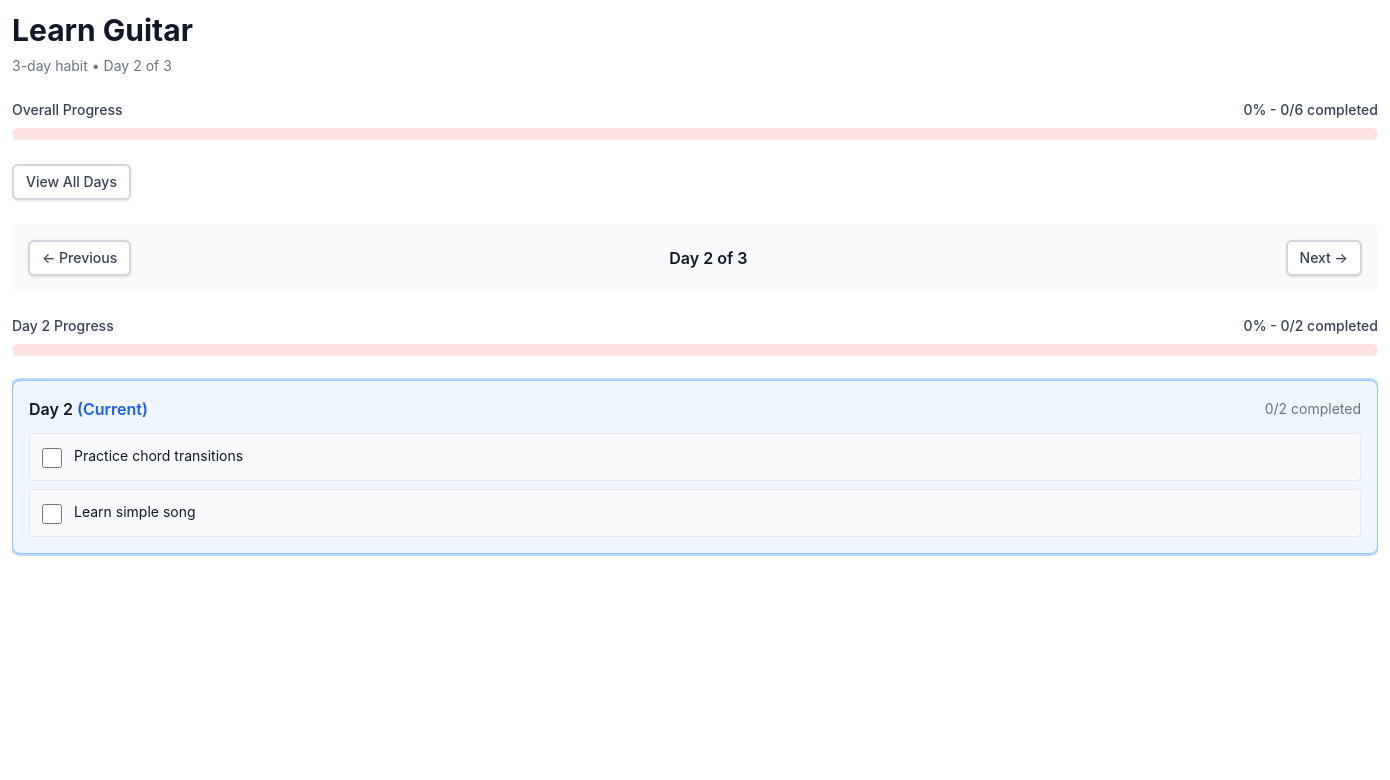
Test: MultiDayTaskDisplay › should navigate to previous day when prev button clicked
Click the button "← Previous". click: {"x": 80, "y": 258}
box: [28,240,131,276]
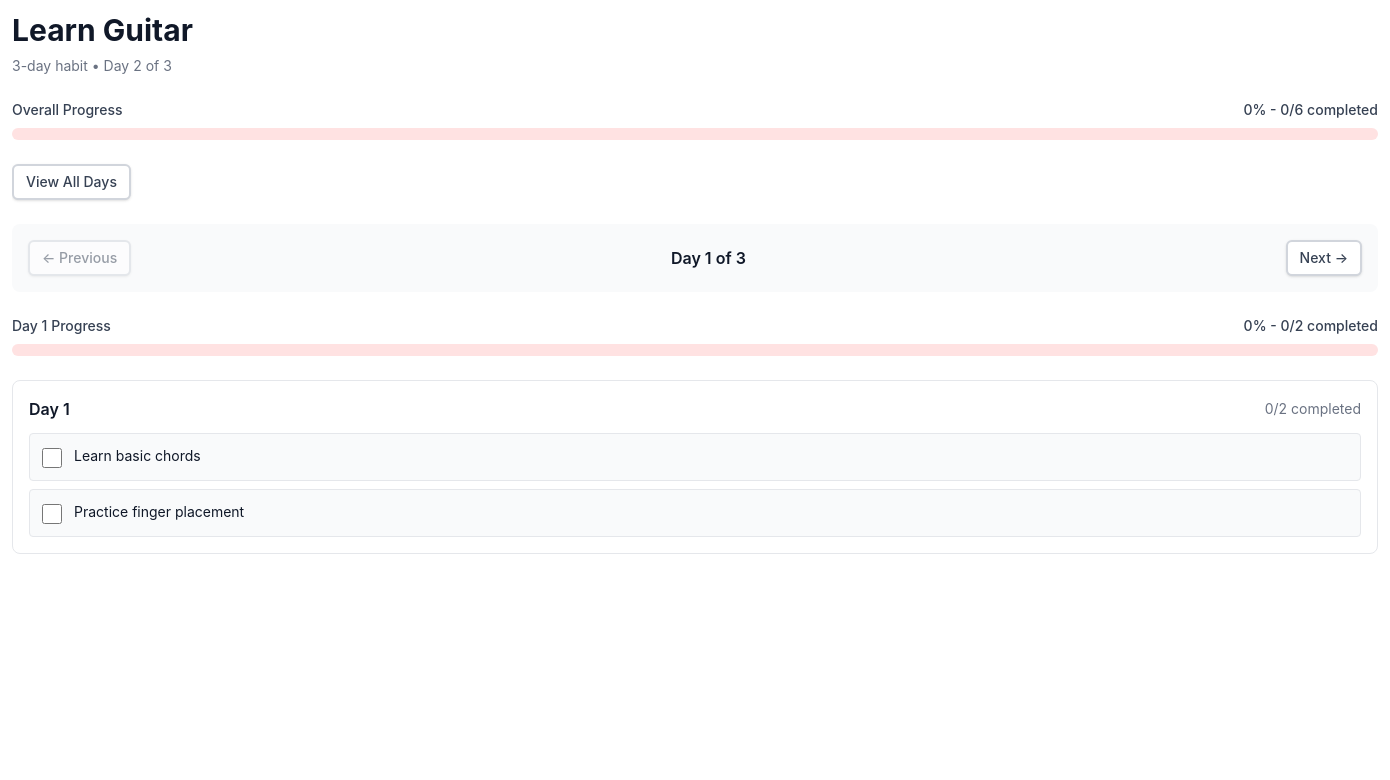
Check: the text "Day 1 of 3" is shown, box [671,246,746,270]
Check: the text "Learn basic chords" is shown, box [74,447,201,464]
